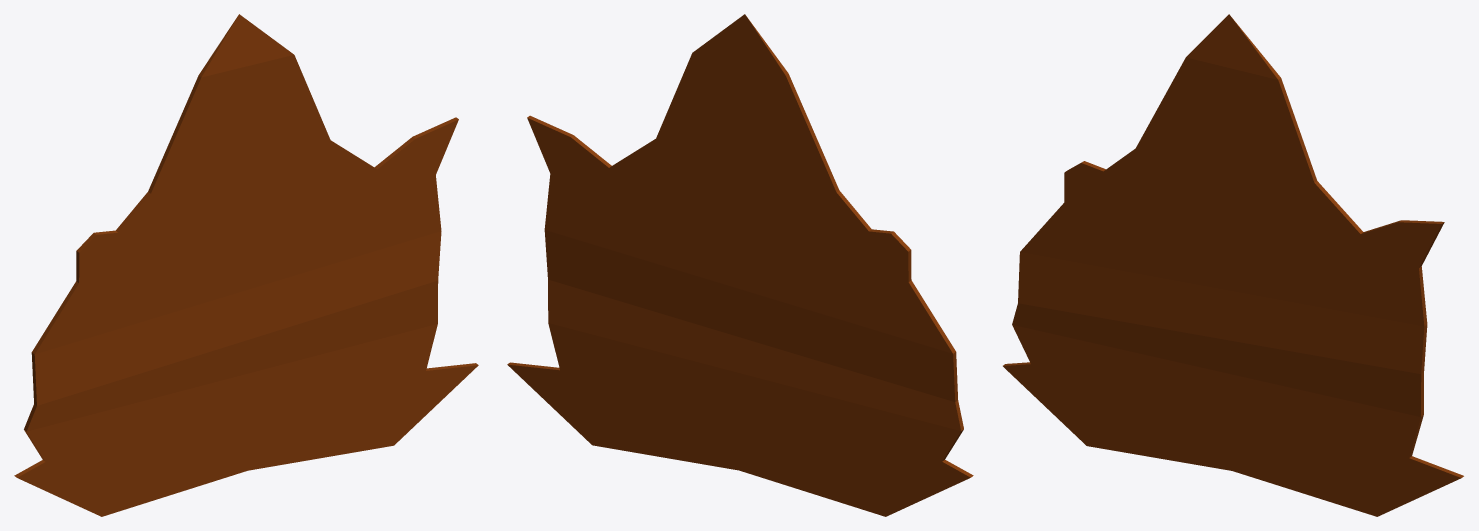
The model's file is Leave_c_03.fbx.
The picture shows the model from 3 angles, left to right: view 1: azimuth 30°, elevation 25°; view 2: azimuth 150°, elevation 25°; view 3: azimuth 330°, elevation 25°; orthographic projection.
Parts seen in each view (by area): view 1: Leave_c_03_LOD0; view 2: Leave_c_03_LOD0; view 3: Leave_c_03_LOD0.
Boxes of the visible parts, x1,y1,x2,y2 form: Leave_c_03_LOD0: [14, 14, 478, 516]; Leave_c_03_LOD0: [507, 14, 973, 516]; Leave_c_03_LOD0: [1003, 14, 1463, 516].
Size of what is drawn, in the model's own units: 2.42 by 2.33 by 0.0468.
